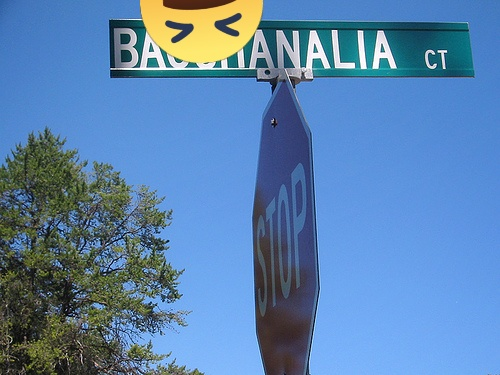haha: (140, 0, 263, 63)
